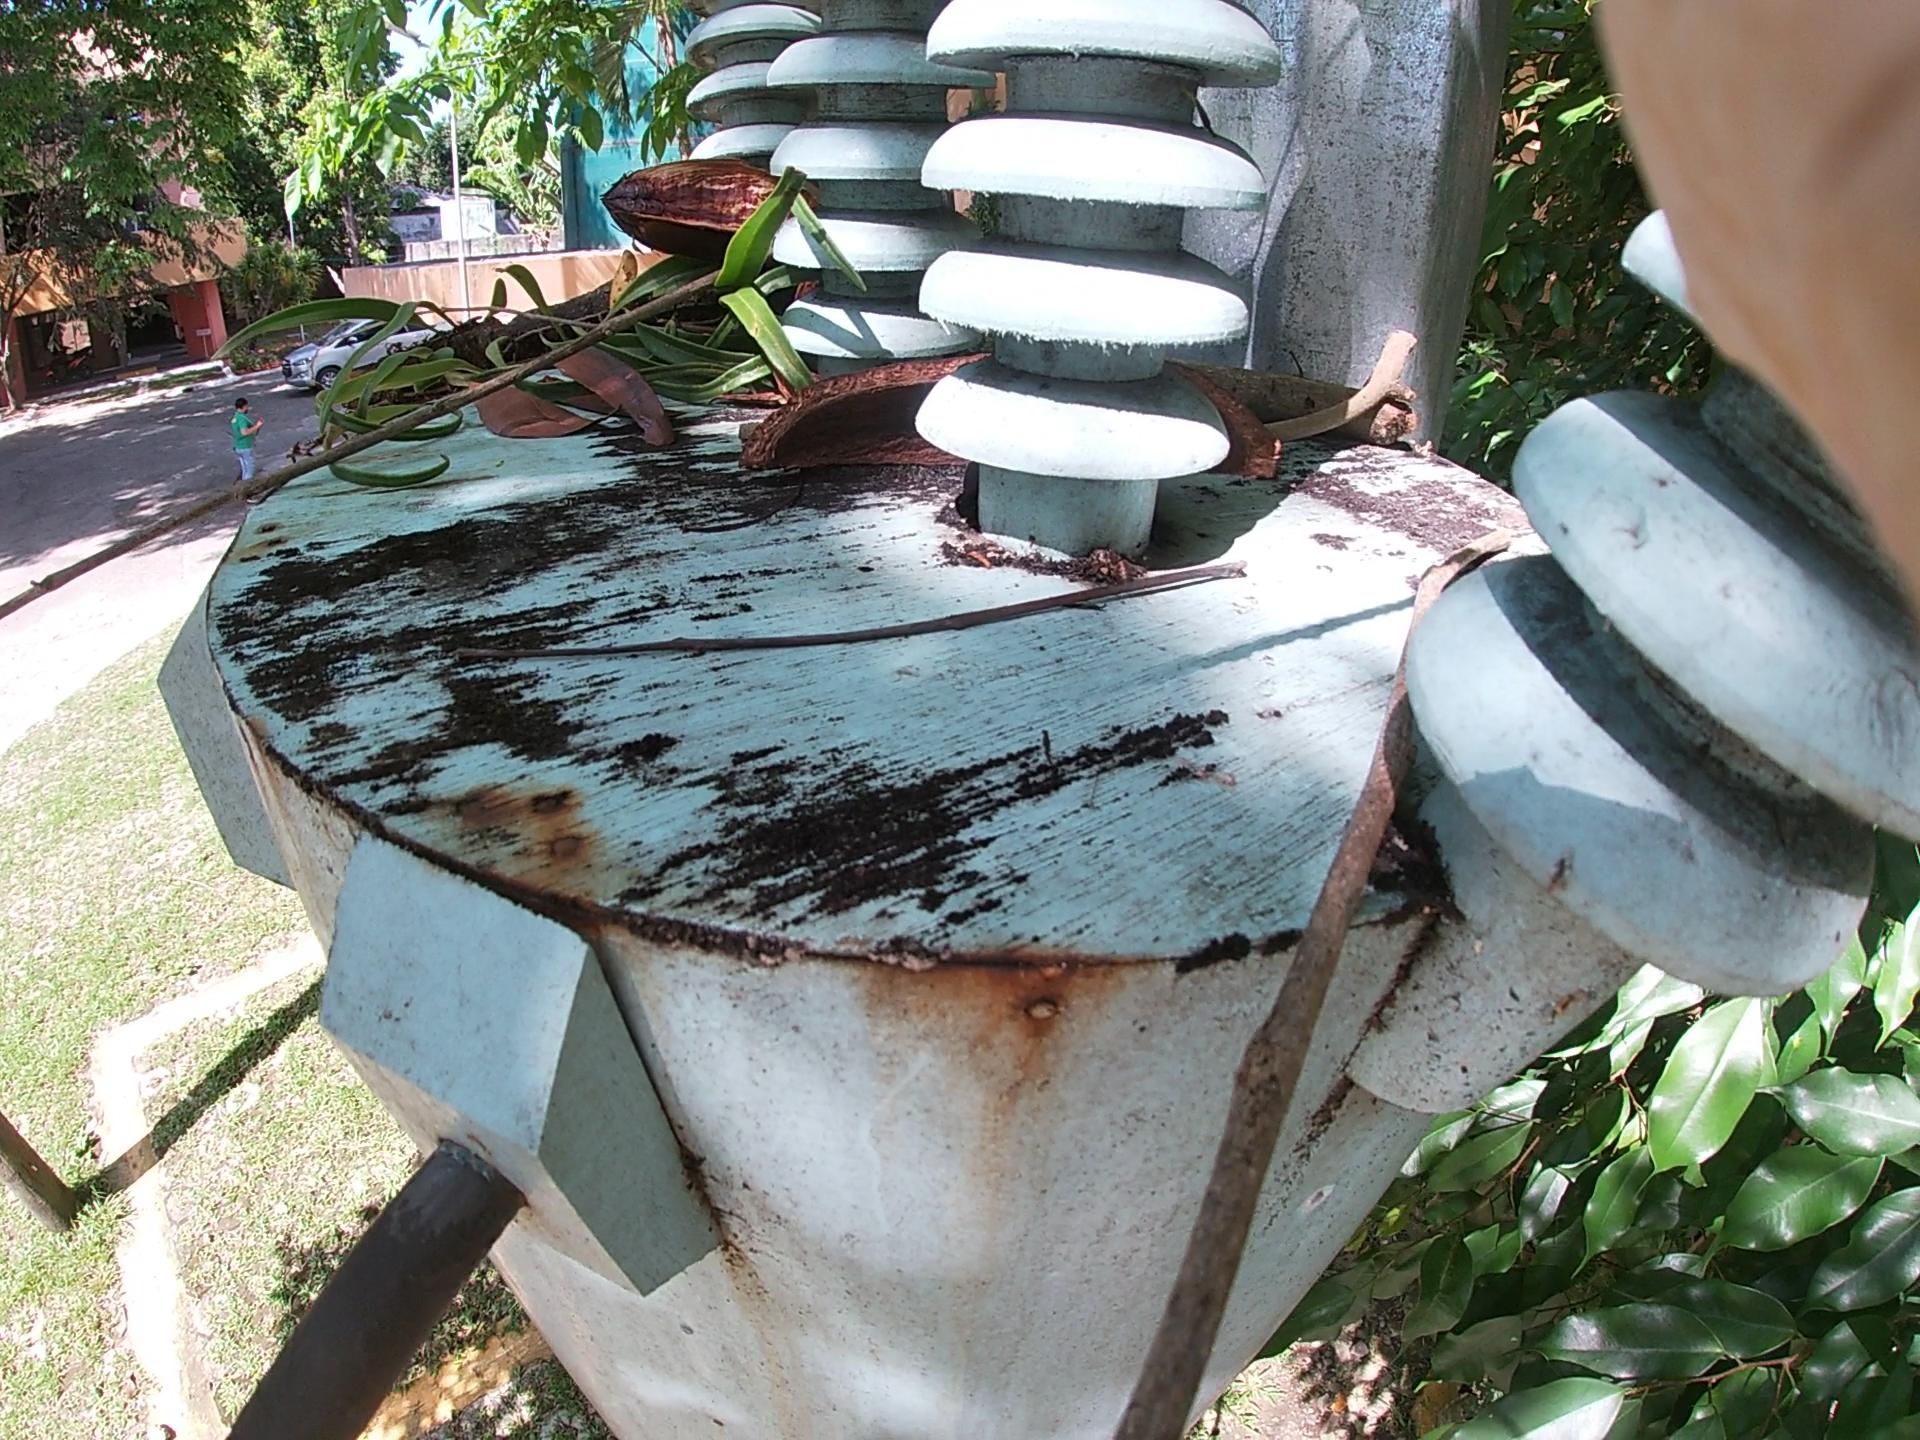branch with leaves: (293, 216, 853, 470)
leaf: (451, 322, 658, 457)
mahogany fruit: (774, 346, 1261, 493), (593, 166, 877, 375)
tree branch: (42, 256, 770, 591), (1163, 585, 1442, 1373), (497, 546, 1302, 631), (1223, 324, 1463, 475)
